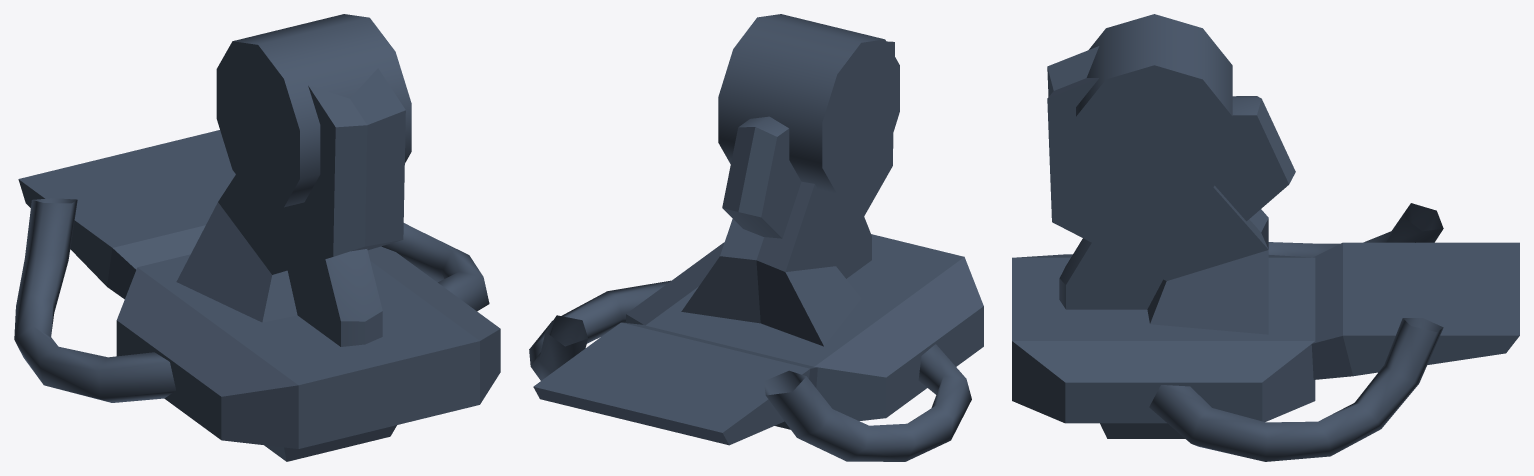
File: acs17_part1_body1.fbx
The picture shows the model from 3 angles, left to right: view 1: azimuth 30°, elevation 25°; view 2: azimuth 150°, elevation 25°; view 3: azimuth 270°, elevation 25°; orthographic projection. The views are drawn at different scales.
Parts seen in each view (by area): view 1: Box010, Box011, Cylinder001, Box016, Cylinder030, Box012, Cylinder127; view 2: Box010, Cylinder001, Box016, Box011, Cylinder030, Box012, Cylinder127; view 3: Box010, Cylinder001, Box011, Box016, Cylinder127, Box012, Cylinder030.
Boxes of the visible parts, bbox=[...] form: Box010: bbox=[116, 246, 500, 461]; Box011: bbox=[176, 68, 405, 322]; Cylinder001: bbox=[216, 14, 411, 207]; Box016: bbox=[18, 130, 235, 299]; Cylinder030: bbox=[14, 198, 175, 402]; Box012: bbox=[287, 249, 382, 346]; Cylinder127: bbox=[381, 223, 489, 311]; Box010: bbox=[626, 234, 983, 429]; Cylinder001: bbox=[718, 14, 899, 194]; Box016: bbox=[533, 322, 817, 445]; Box011: bbox=[681, 41, 894, 346]; Cylinder030: bbox=[764, 344, 971, 461]; Box012: bbox=[722, 116, 871, 278]; Cylinder127: bbox=[529, 280, 670, 380]; Box010: bbox=[1012, 254, 1315, 438]; Cylinder001: bbox=[1076, 14, 1232, 214]; Box011: bbox=[1047, 46, 1268, 334]; Box016: bbox=[1311, 242, 1519, 379]; Cylinder127: bbox=[1149, 318, 1443, 461]; Box012: bbox=[1059, 96, 1295, 309]; Cylinder030: bbox=[1268, 203, 1443, 257].
Bounding box in the file's own units: 157 × 140 × 171.
